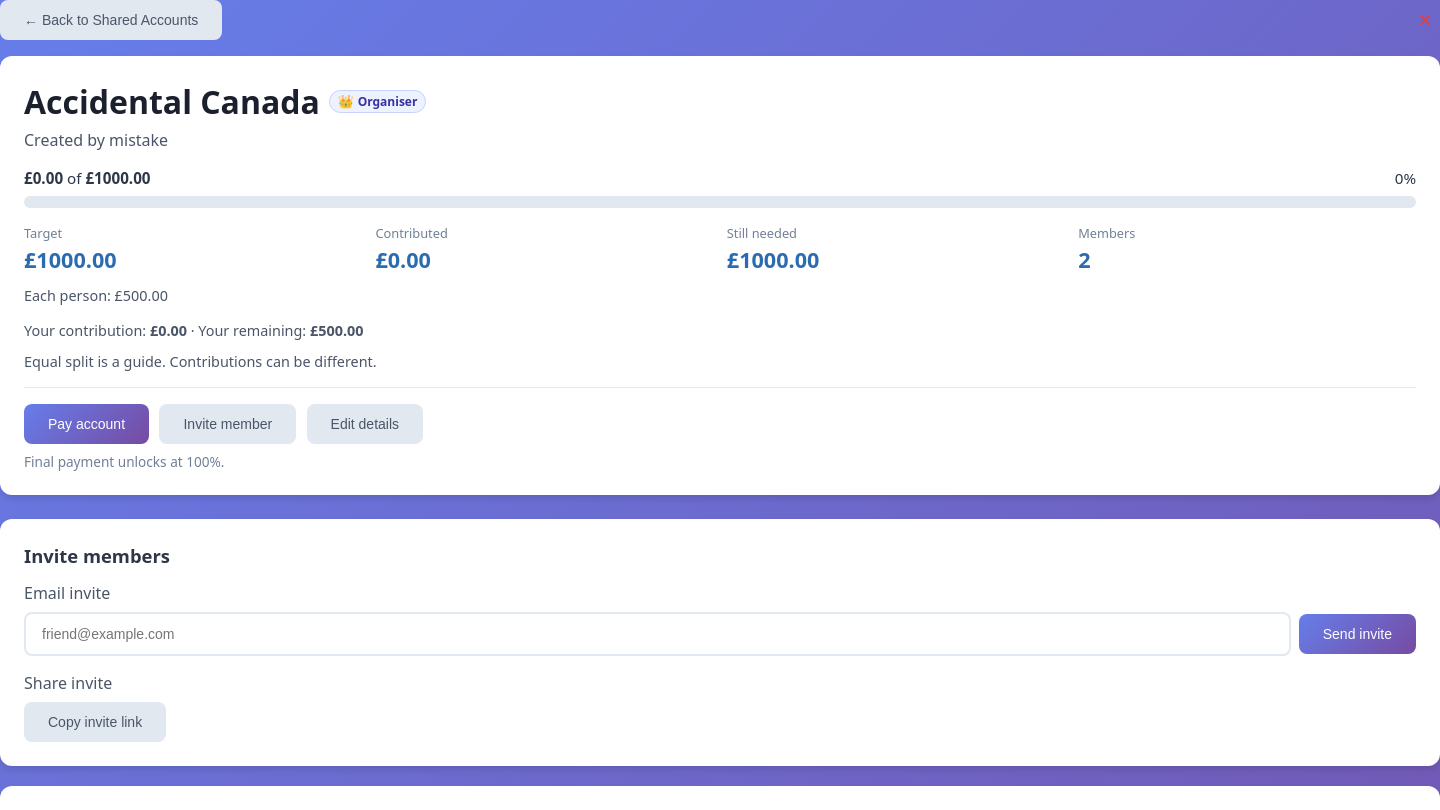
Test: SharedAccountDetail sole-owner accidental delete › still counts an accepted traveller with £0 contributed as another traveller
The image size is (1440, 810).
Click the button named "leave shared account". click: (1425, 20)
box: x1=1410 y1=4 x2=1439 y2=36
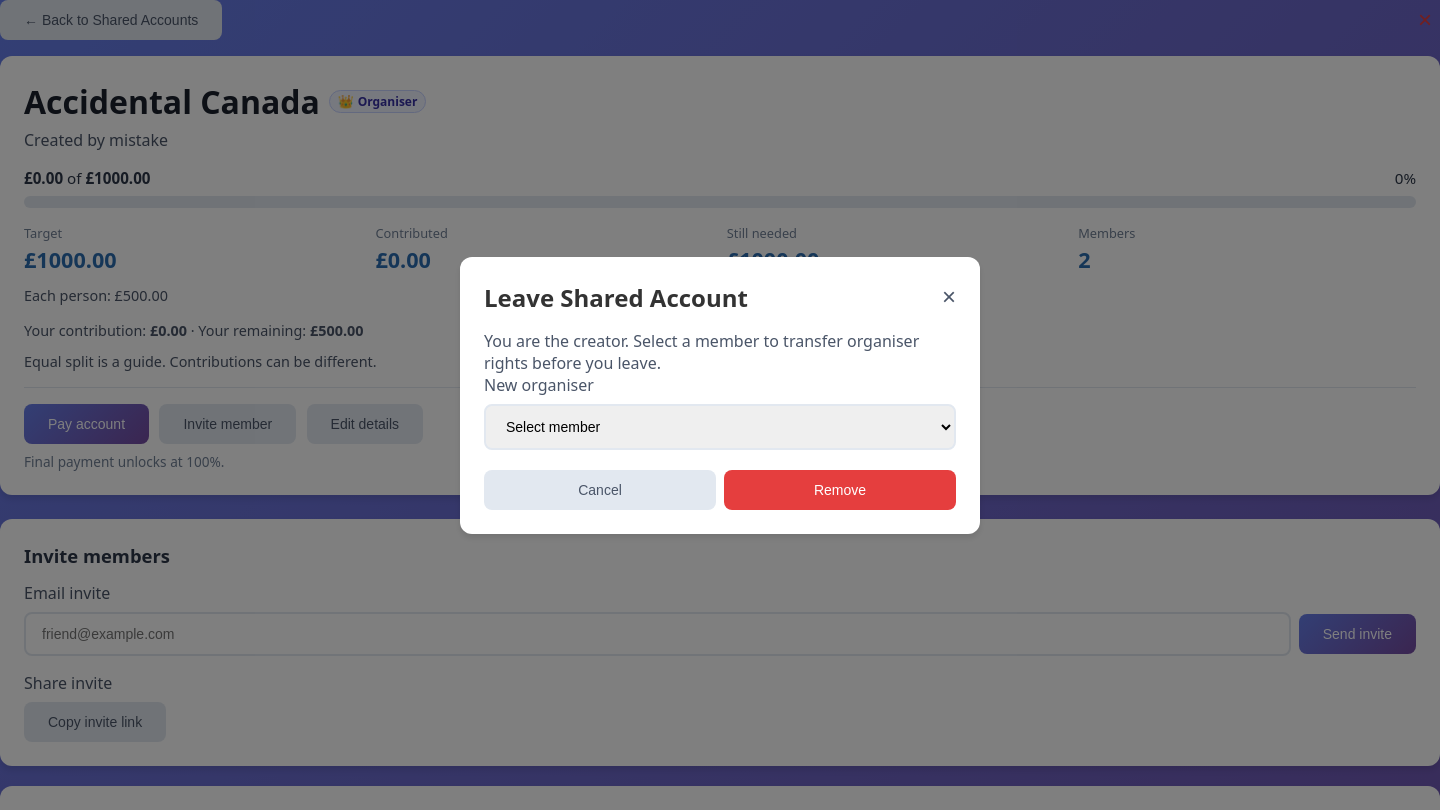
Expected: the heading "Leave Shared Account" is shown, x1=484 y1=280 x2=748 y2=314
Expected: the dropdown labelled "New organiser" is shown, x1=484 y1=404 x2=956 y2=450
Expected: the button "Remove" is shown, x1=724 y1=470 x2=956 y2=510
